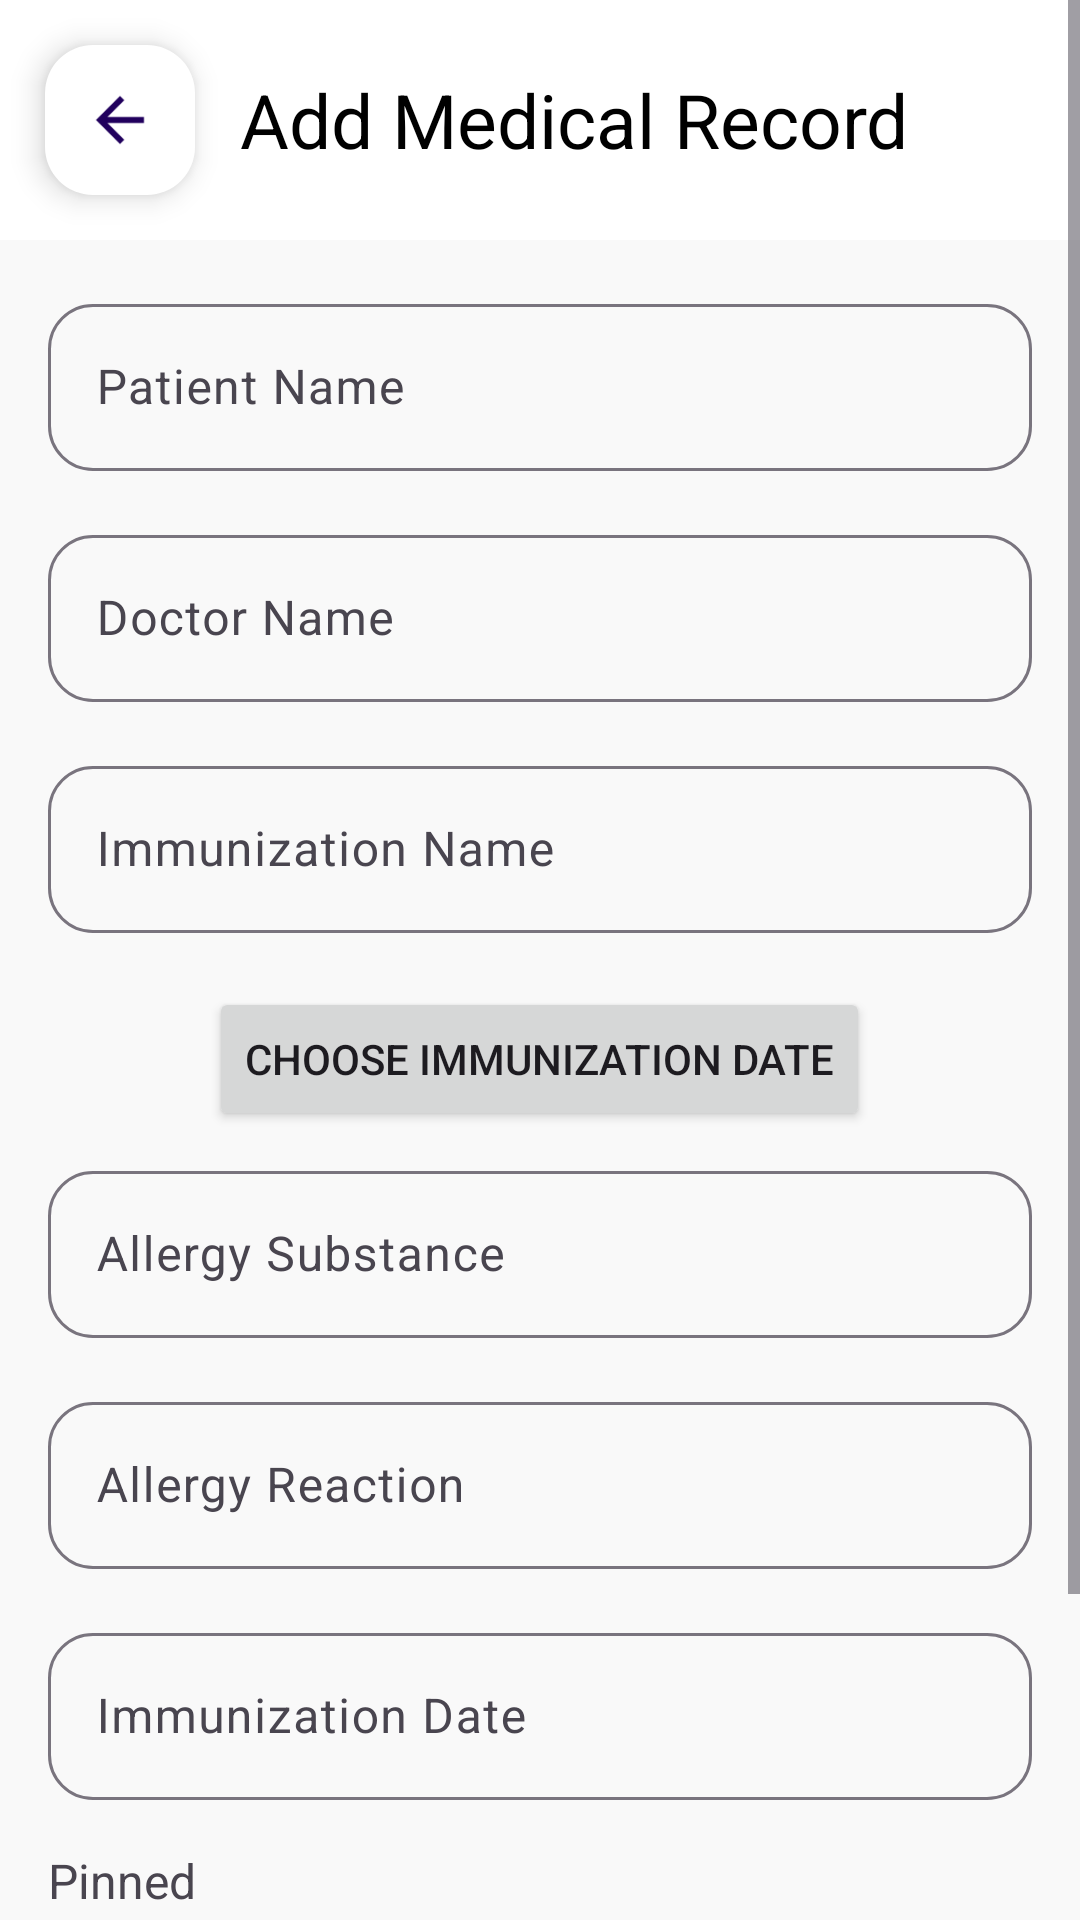

Where icons sit on this 1080px x 1920px app screen, as (x1, y1, x2, y2):
arrowback: (45, 48, 157, 195)
